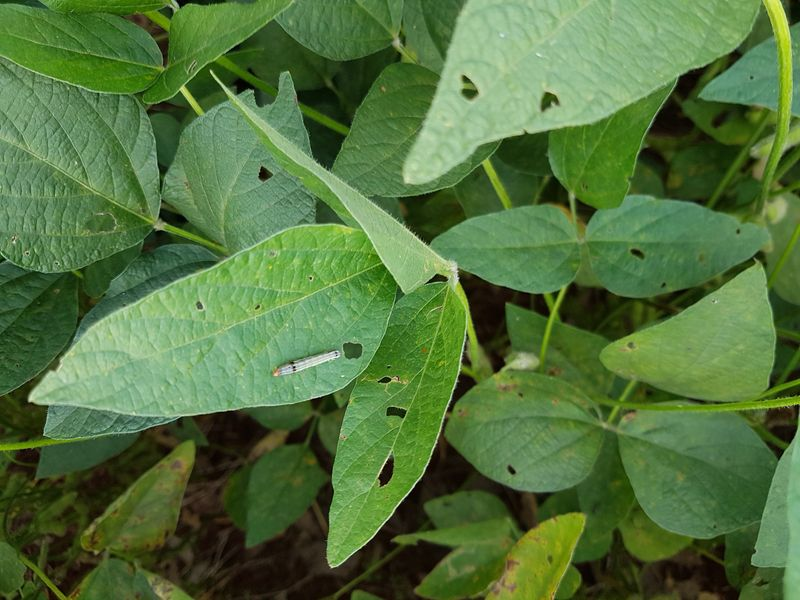Spodoptera_albula: (267, 342, 349, 384)
